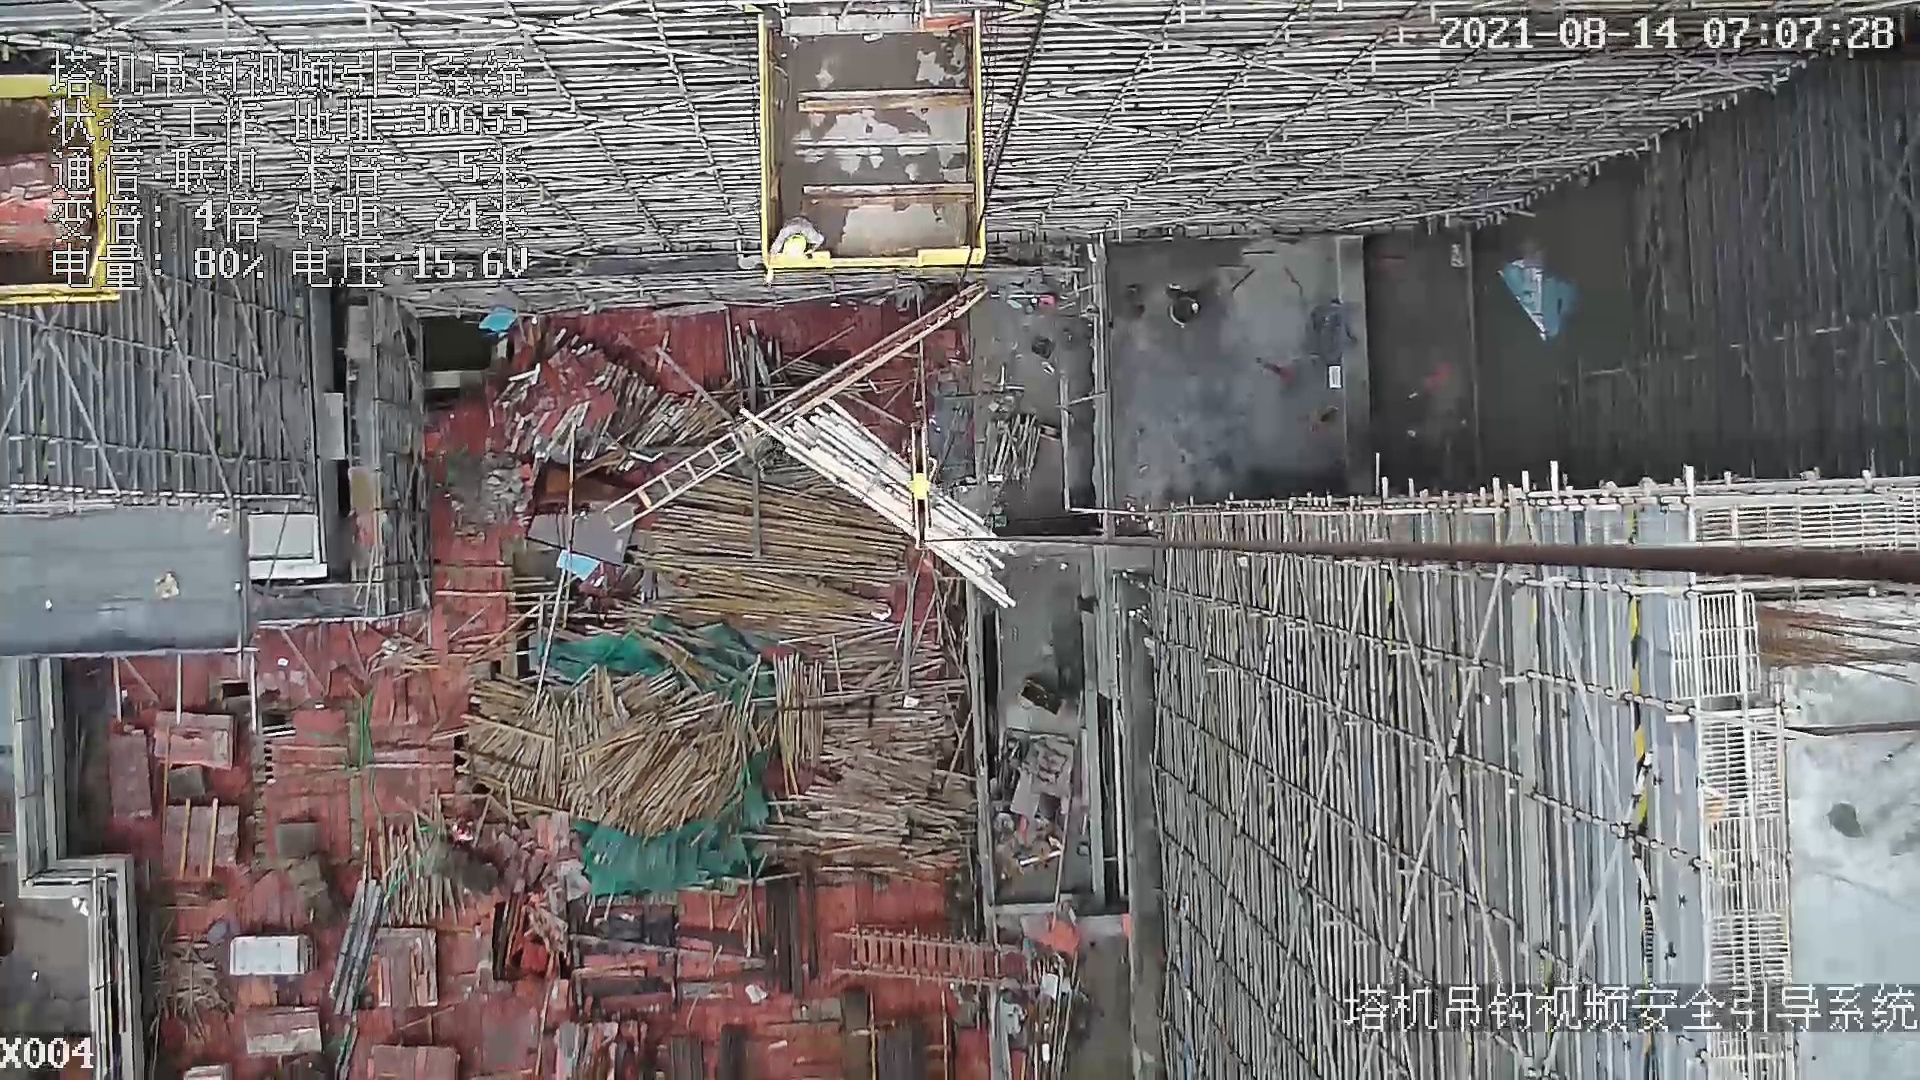helmet: (785, 233, 806, 258)
hook: (903, 419, 944, 554)
person: (759, 204, 824, 294)
